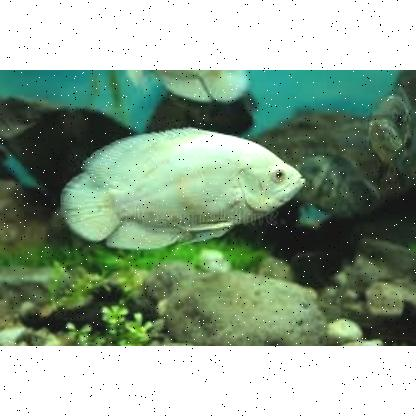gurame: (62, 128, 308, 250)
